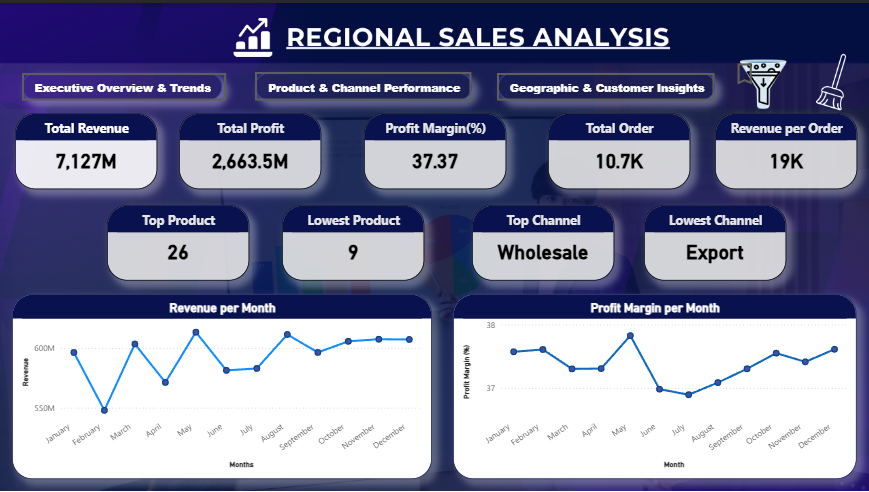

What the dashboard file says about the page in this screenshot:
{"tool":"powerbi","page":{"name":"Executive Overview & Trends","canvas":[1280,720],"ordinal":0},"visuals":[{"type":"card","title":"Total Revenue","fields":{"Values":["Sum(regional_sales_data_clean.revenue)"]},"box":[23.5,161.6,208.7,111.7],"z":0},{"type":"card","title":"Total Profit","fields":{"Values":["Sum(regional_sales_data_clean.profit)"]},"box":[264.5,161.6,208.7,111.7],"z":1000},{"type":"card","title":"Total Order","fields":{"Values":["Count(regional_sales_data_clean.order_number)"]},"box":[806.7,161.6,208.7,111.7],"z":2000},{"type":"card","title":"Profit Margin(%)","fields":{"Values":["Customer Measures.Profit Margin (%)"]},"box":[536.3,161.6,208.7,111.7],"z":3000},{"type":"card","title":"Revenue per Order","fields":{"Values":["Customer Measures.Revenue per Order"]},"box":[1052.1,161.6,208.7,111.7],"z":4000},{"type":"textbox","title":"Executive Overview & Trends","box":[33.8,102.9,293.9,39.7],"z":5000},{"type":"textbox","title":"Product &  Channel Performance","box":[376.2,102.9,318.9,39.7],"z":6000},{"type":"textbox","title":"Geographic & Customer Insights","box":[733.2,102.9,318.9,39.7],"z":7000},{"type":"lineChart","title":"Revenue per Month","fields":{"Category":["regional_sales_data_clean.month_name"],"Y":["Sum(regional_sales_data_clean.revenue)"]},"box":[19.5,427.7,616.7,271.6],"z":8000},{"type":"lineChart","title":"Profit Margin  per Month","fields":{"Y":["Customer Measures.Profit Margin (%)"],"Category":["regional_sales_data_clean.month_name"]},"box":[667.8,427.7,592.7,271.6],"z":9000},{"type":"card","title":"Top Product","fields":{"Values":["Customer Measures.Top Product"]},"box":[159.1,297.1,208.6,111],"z":10000},{"type":"card","title":"Top Channel","fields":{"Values":["Customer Measures.Top Channel"]},"box":[694.8,297.1,208.6,111],"z":11000},{"type":"card","title":"Lowest Product","fields":{"Values":["Customer Measures.Lowest Product"]},"box":[415.7,297.1,208.6,111],"z":12000},{"type":"card","title":"Lowest Channel","fields":{"Values":["Customer Measures.Lowest Channel"]},"box":[948.4,297.1,208.6,111],"z":13000},{"type":"actionButton","box":[34.5,103.5,300.1,40.5],"z":14000},{"type":"actionButton","box":[376.6,102,318.1,42],"z":15000},{"type":"actionButton","box":[732.3,103.5,319.6,40.5],"z":16000},{"type":"actionButton","box":[1075.1,84,100.8,40.3],"z":17000}]}

Visuals, with their boxes in screenshot pixels (x1, y1, x2, y2), scaled from the page's 1280x720 canvas onto the 869x492 screenshot:
"Total Revenue" card: 16, 110, 158, 187
"Total Profit" card: 180, 110, 321, 187
"Total Order" card: 548, 110, 689, 187
"Profit Margin(%)" card: 364, 110, 506, 187
"Revenue per Order" card: 714, 110, 856, 187
"Executive Overview & Trends" textbox: 23, 70, 222, 97
"Product &  Channel Performance" textbox: 255, 70, 472, 97
"Geographic & Customer Insights" textbox: 498, 70, 714, 97
"Revenue per Month" lineChart: 13, 292, 432, 478
"Profit Margin  per Month" lineChart: 453, 292, 856, 478
"Top Product" card: 108, 203, 250, 279
"Top Channel" card: 472, 203, 613, 279
"Lowest Product" card: 282, 203, 424, 279
"Lowest Channel" card: 644, 203, 785, 279
actionButton: 23, 71, 227, 98
actionButton: 256, 70, 472, 98
actionButton: 497, 71, 714, 98
actionButton: 730, 57, 798, 85
